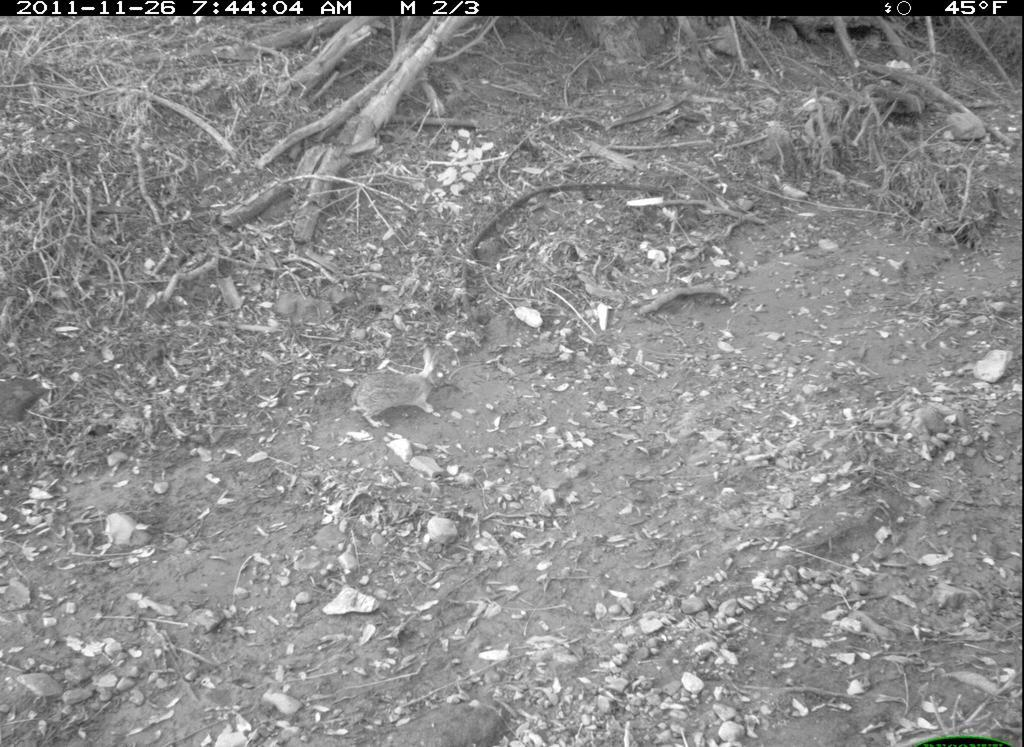rabbit: (347, 344, 454, 436)
